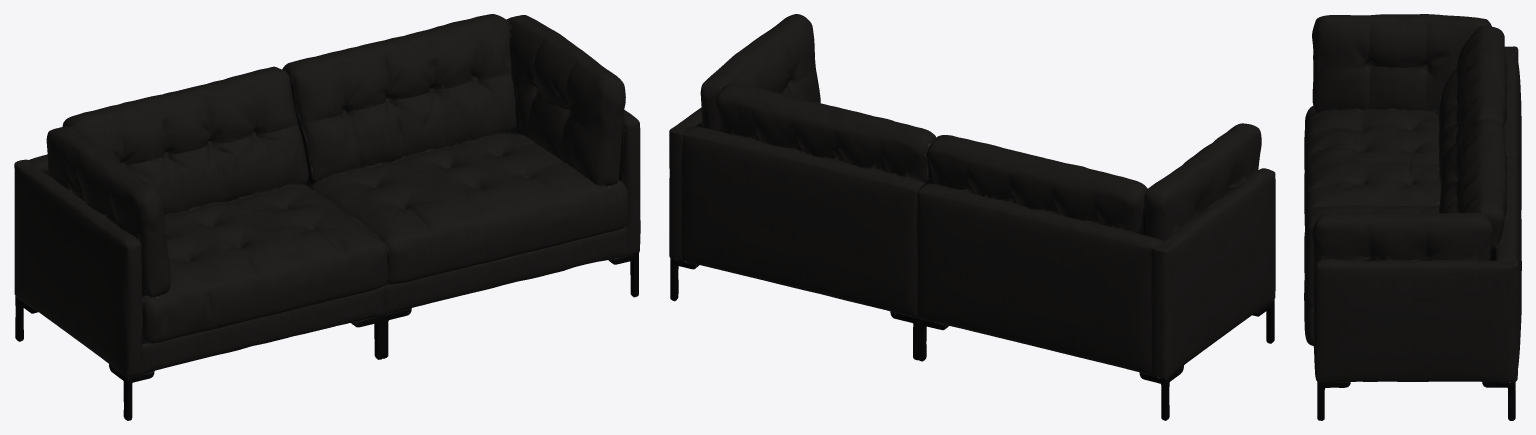
3 views of the same model, side by side, from view 1: azimuth 30°, elevation 25°; view 2: azimuth 150°, elevation 25°; view 3: azimuth 270°, elevation 25° (orthographic). The views are drawn at different scales.
Visible parts, largest first — view 1: tripo_node_f3f03f9a-f368-4aba-8cd4-481c6d4b713e; view 2: tripo_node_f3f03f9a-f368-4aba-8cd4-481c6d4b713e; view 3: tripo_node_f3f03f9a-f368-4aba-8cd4-481c6d4b713e.
Part boxes in pixels (box(x1,y1,x2,y2)): tripo_node_f3f03f9a-f368-4aba-8cd4-481c6d4b713e: box(14, 14, 640, 420); tripo_node_f3f03f9a-f368-4aba-8cd4-481c6d4b713e: box(669, 14, 1275, 420); tripo_node_f3f03f9a-f368-4aba-8cd4-481c6d4b713e: box(1304, 14, 1521, 420).
Size of the model in its own units: 1.95 by 0.8 by 0.8.
Materials: 2 (2 with a texture image).
